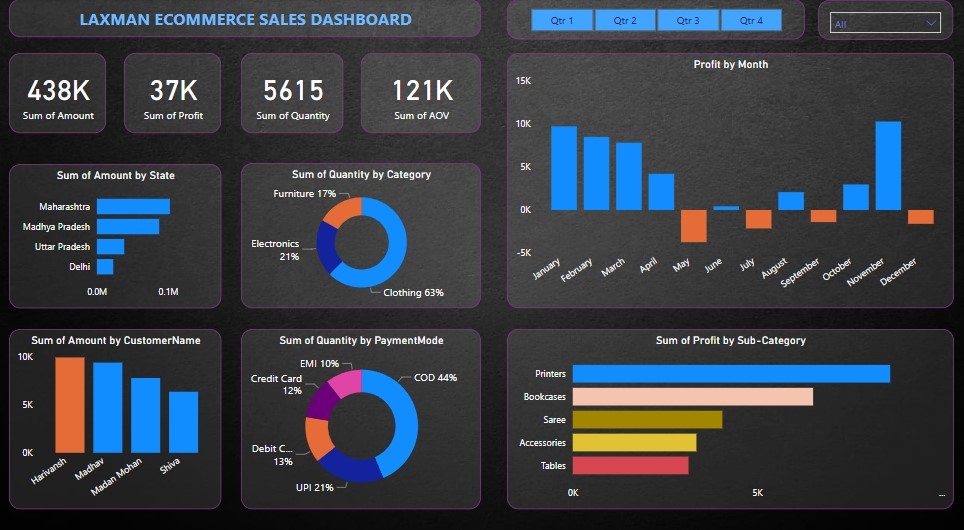

The dashboard page shown, as its layout file describes it:
{"tool":"powerbi","page":{"name":"Page 1","canvas":[1280,720],"ordinal":0},"visuals":[{"type":"textbox","box":[21.6,0,617.8,50.4],"z":0},{"type":"columnChart","title":"Profit by Month","fields":{"Category":["Orders.Order Date.Variation.Date Hierarchy.Month"],"Y":["Details.Profit"]},"box":[673.9,70.6,584.6,334.1],"z":1000},{"type":"barChart","fields":{"Category":["Details.Sub-Category"],"Y":["Details.Profit"]},"box":[673.9,432,584.6,236.2],"z":2000},{"type":"donutChart","fields":{"Category":["Details.Category"],"Y":["Details.Quantity"]},"box":[325.4,214.6,313.9,190.1],"z":3000},{"type":"donutChart","fields":{"Y":["Details.Quantity"],"Category":["Details.PaymentMode"]},"box":[325.4,432,313.9,236.2],"z":4000},{"type":"card","fields":{"Values":["Details.Amount"]},"box":[21.6,70.6,126.7,105.1],"z":5000},{"type":"card","fields":{"Values":["Details.Quantity"]},"box":[325.4,70.6,133.9,105.1],"z":6000},{"type":"card","fields":{"Values":["Details.Profit"]},"box":[172.8,70.6,126.7,105.1],"z":7000},{"type":"card","fields":{"Values":["Details.AOV"]},"box":[482.4,70.6,157,105.1],"z":8000},{"type":"barChart","fields":{"Category":["Orders.State"],"Y":["Details.Amount"]},"box":[21.6,216,277.9,188.6],"z":9000},{"type":"columnChart","fields":{"Category":["Orders.CustomerName"],"Y":["Details.Amount"]},"box":[21.6,432,277.9,236.2],"z":10000},{"type":"slicer","fields":{"Values":["Orders.Order Date.Variation.Date Hierarchy.Quarter"]},"box":[673.9,0,390.2,53.3],"z":11000},{"type":"slicer","fields":{"Values":["Orders.State"]},"box":[1081.4,1.4,177.1,51.8],"z":12000}]}

Visuals, with their boxes in screenshot pixels (x1, y1, x2, y2), scaled from the page's 1280x720 canvas onto the 964x530 screenshot:
textbox: {"left": 16, "top": 0, "right": 482, "bottom": 37}
"Profit by Month" columnChart: {"left": 508, "top": 52, "right": 948, "bottom": 298}
barChart - Details.Sub-Category x Details.Profit: {"left": 508, "top": 318, "right": 948, "bottom": 492}
donutChart - Details.Category x Details.Quantity: {"left": 245, "top": 158, "right": 481, "bottom": 298}
donutChart - Details.Quantity x Details.PaymentMode: {"left": 245, "top": 318, "right": 481, "bottom": 492}
card - Details.Amount: {"left": 16, "top": 52, "right": 112, "bottom": 129}
card - Details.Quantity: {"left": 245, "top": 52, "right": 346, "bottom": 129}
card - Details.Profit: {"left": 130, "top": 52, "right": 226, "bottom": 129}
card - Details.AOV: {"left": 363, "top": 52, "right": 482, "bottom": 129}
barChart - Orders.State x Details.Amount: {"left": 16, "top": 159, "right": 226, "bottom": 298}
columnChart - Orders.CustomerName x Details.Amount: {"left": 16, "top": 318, "right": 226, "bottom": 492}
slicer - Orders.Order Date.Variation.Date Hierarchy.Quarter: {"left": 508, "top": 0, "right": 801, "bottom": 39}
slicer - Orders.State: {"left": 814, "top": 1, "right": 948, "bottom": 39}
